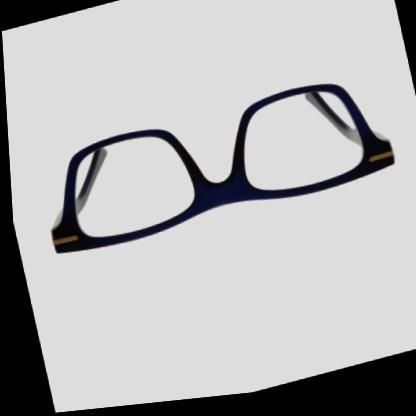Spectacles: (27, 73, 402, 268)
